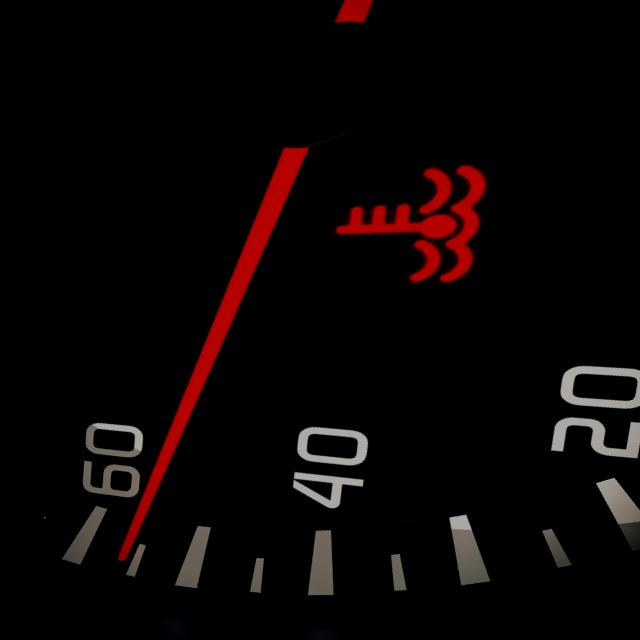kontrolka: (302, 140, 522, 314)
